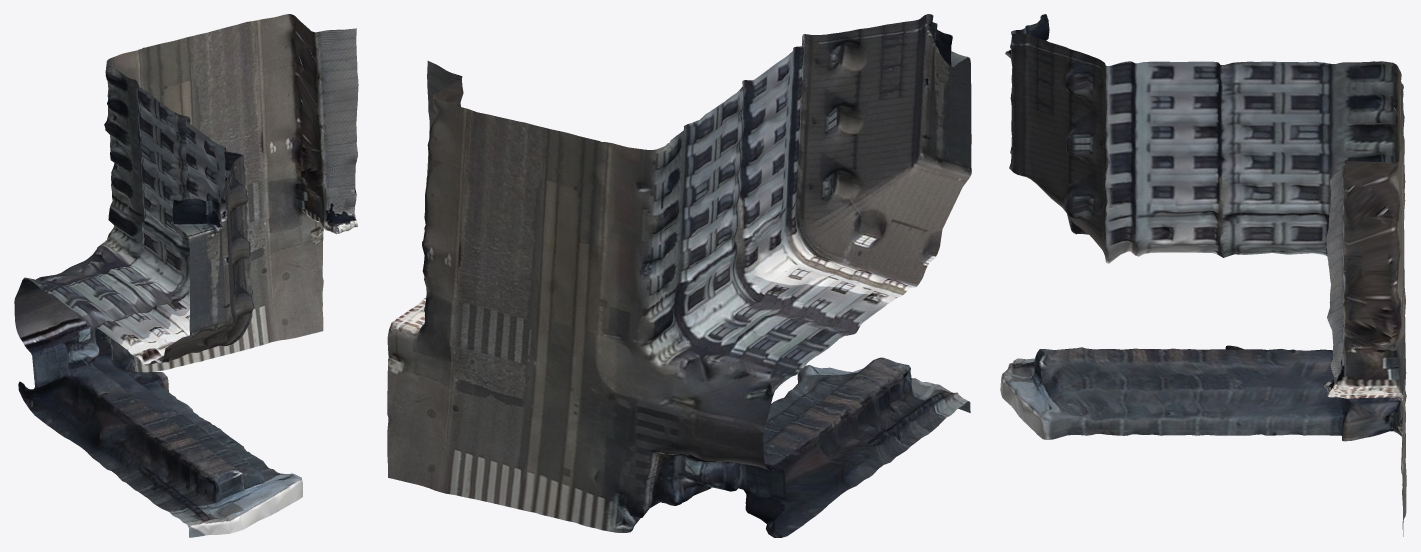
The model's file is Tile_+029_+018_L21_0001300.fbx.
The picture shows the model from 3 angles, left to right: view 1: azimuth 30°, elevation 25°; view 2: azimuth 150°, elevation 25°; view 3: azimuth 270°, elevation 25°; orthographic projection. The views are drawn at different scales.
Visible parts, largest first — view 1: DefaultName; view 2: DefaultName; view 3: DefaultName.
Boxes of the visible parts, x1,y1,x2,y2 form: DefaultName: (14, 14, 358, 537); DefaultName: (387, 14, 971, 537); DefaultName: (1000, 14, 1406, 536).
Bounding box in the file's own units: 31.38 × 31.38 × 32.34.
Materials: 1 (1 with a texture image).
